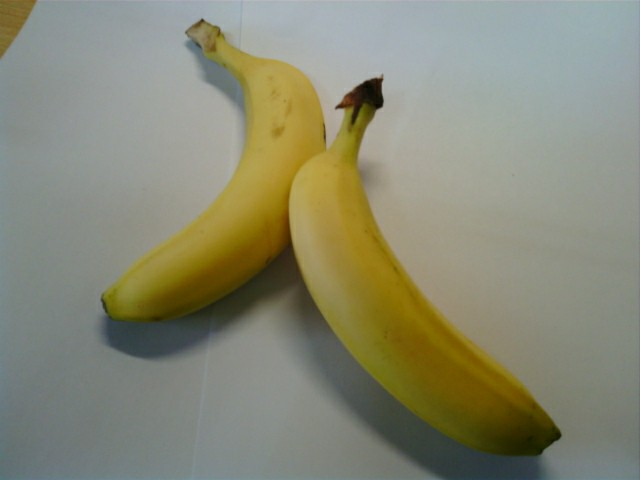fresh_banana: (286, 143, 558, 462), (101, 49, 324, 321)
